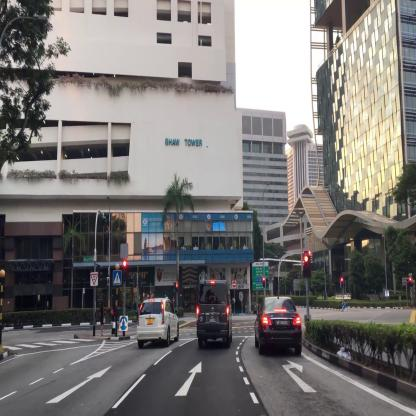red_traffic_light: (304, 255, 311, 277), (122, 260, 126, 280)
